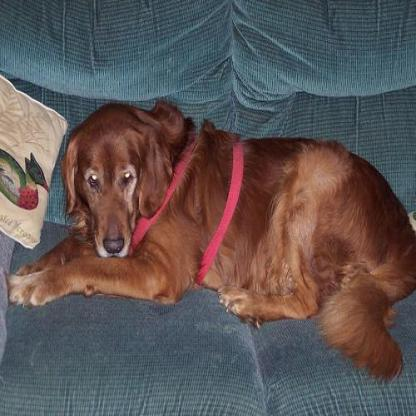Irish_setter: (5, 96, 413, 385)
